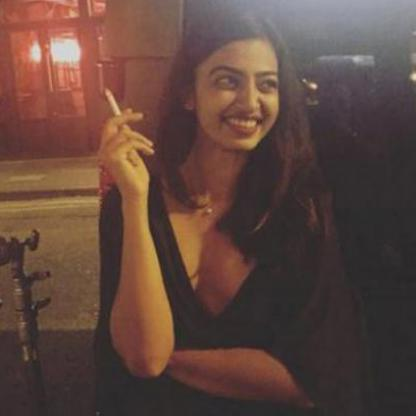cigarette: (102, 86, 120, 118)
person: (125, 15, 334, 385)
